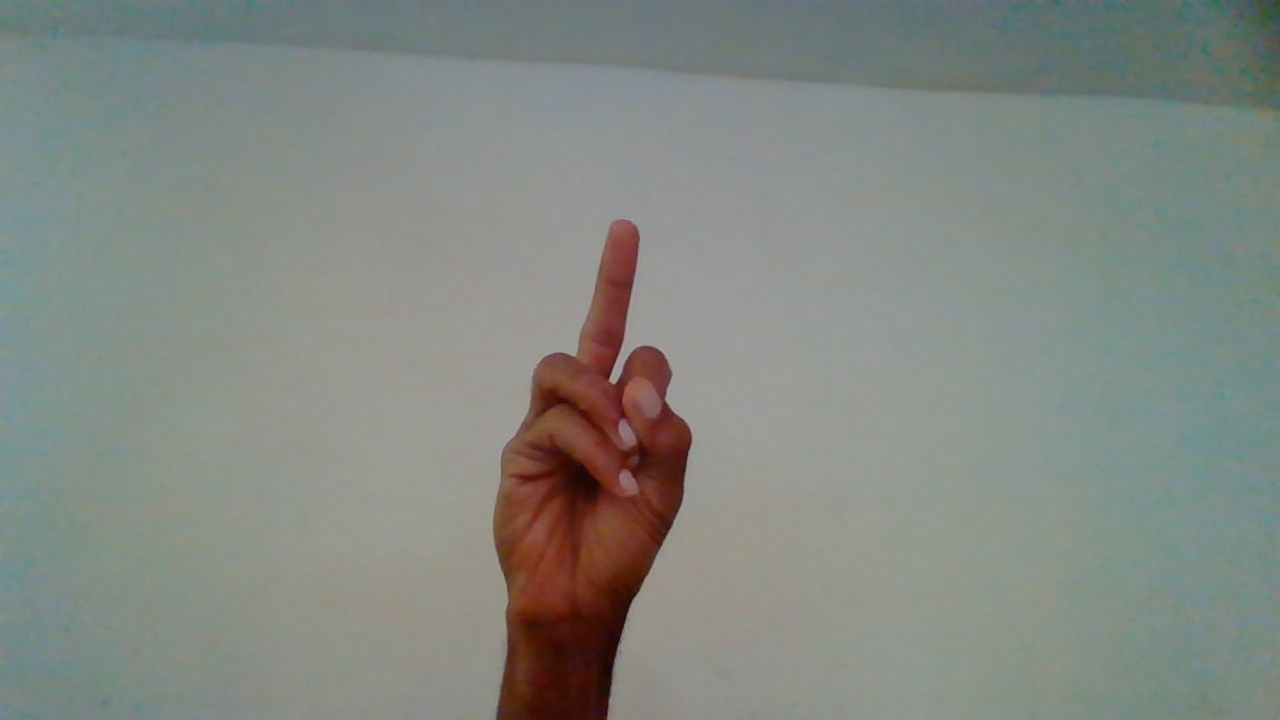he: (491, 219, 672, 694)
